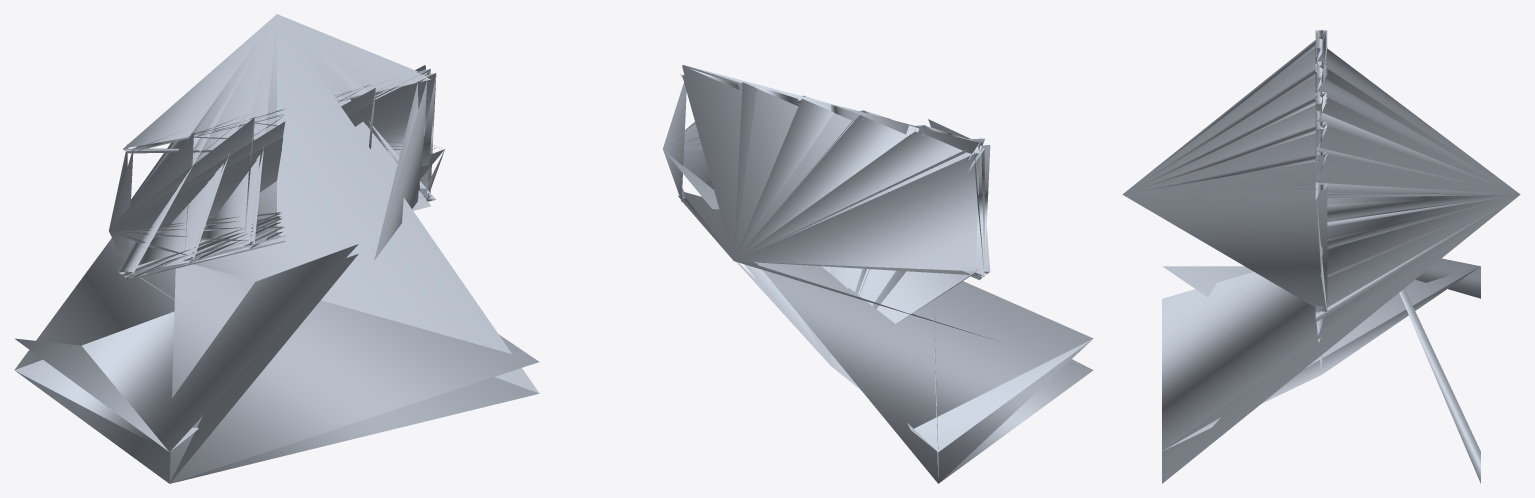
Rendered from truss_analysis.glb.
3 views of the same model, side by side, from view 1: azimuth 30°, elevation 25°; view 2: azimuth 150°, elevation 25°; view 3: azimuth 270°, elevation 25° (orthographic). The views are drawn at different scales.
Parts seen in each view (by area): view 1: tool; view 2: tool; view 3: tool.
Boxes of the visible parts, x1,y1,x2,y2 form: tool: (14,14,539,483); tool: (663,65,1093,483); tool: (1122,30,1520,483).
Size of the model in its own units: 2.2 by 2.09 by 2.
